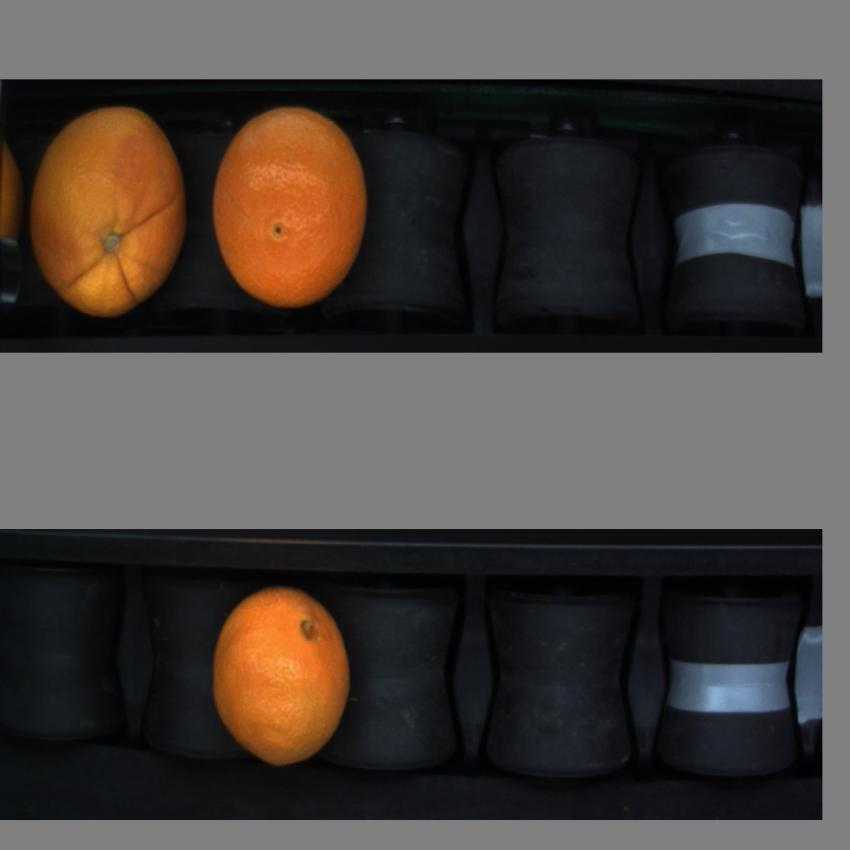Buen estado: (210, 100, 370, 314), (204, 583, 360, 772)
Mal estado: (25, 103, 187, 320)
